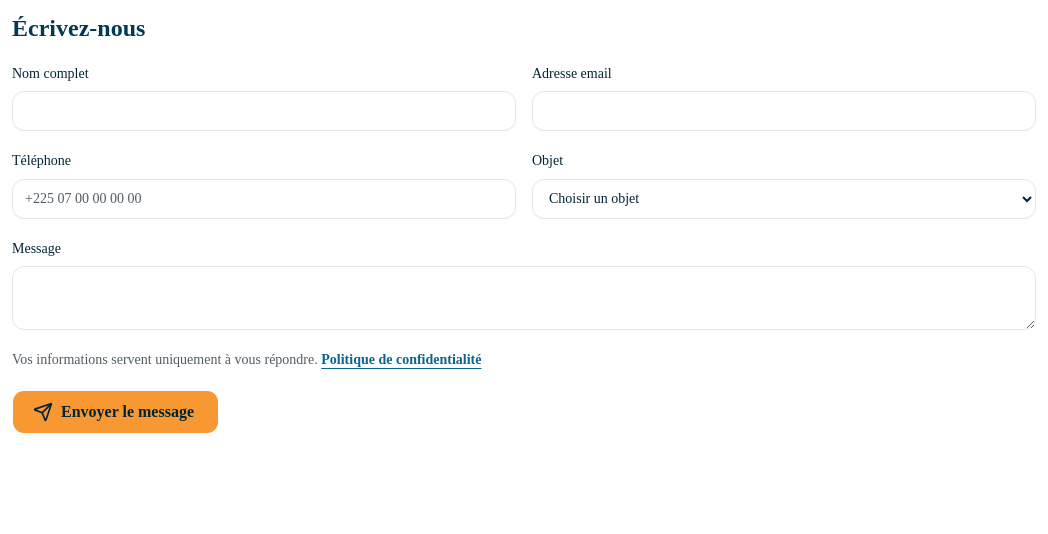
Scenario: ContactForm › contrôles dans le navigateur avant tout envoi
This screenshot has width=1048, height=534.
Type "abc" into the field labelled "Téléphone". click: (264, 198)
box: [12,178,516,218]
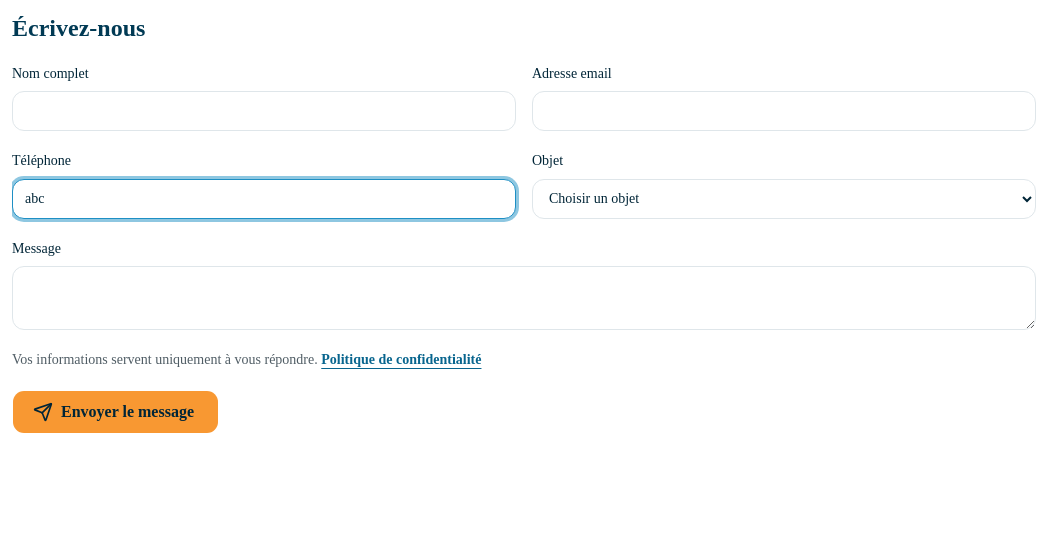
Click the button "Envoyer le message". click: (116, 412)
box: [12,390,219,434]
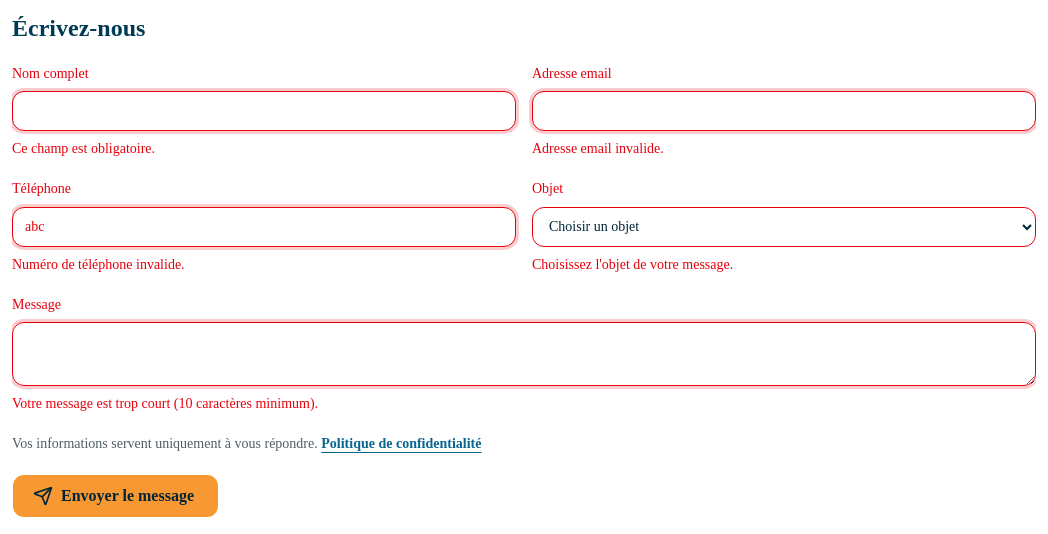
Expected: the text "Choisissez l'objet de votre message." is shown, [532,256,733,272]
Expected: the text "Numéro de téléphone invalide." is shown, [12,256,185,272]
